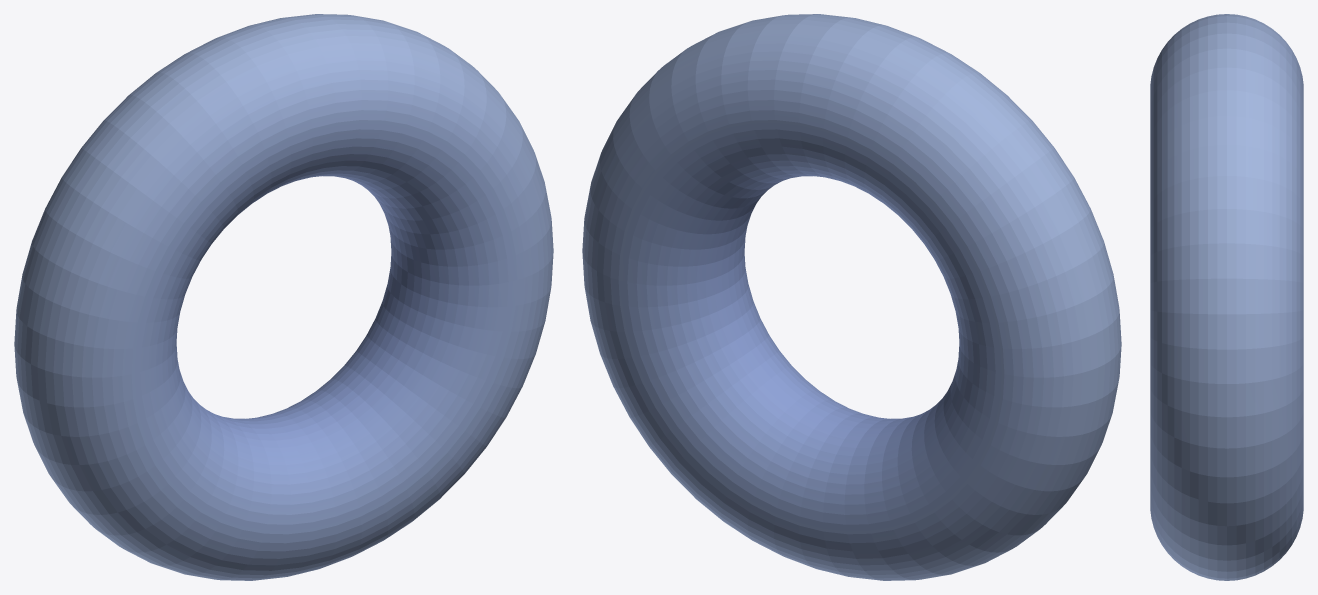
The picture shows the model from 3 angles, left to right: view 1: azimuth 30°, elevation 25°; view 2: azimuth 150°, elevation 25°; view 3: azimuth 270°, elevation 25°; orthographic projection. The views are drawn at different scales.
Visible parts, largest first — view 1: world; view 2: world; view 3: world.
Part boxes in pixels (left/top/right/bottom): world: left=14, top=14, right=553, bottom=580; world: left=582, top=14, right=1121, bottom=580; world: left=1150, top=14, right=1303, bottom=580.
Size of the model in its own units: 20.13 by 20.09 by 5.46.
